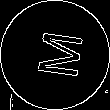M_W: (27, 29, 83, 81)
